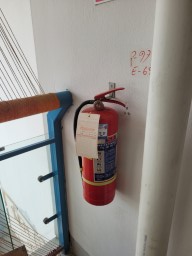fire_extinguisher: (65, 83, 155, 157)
